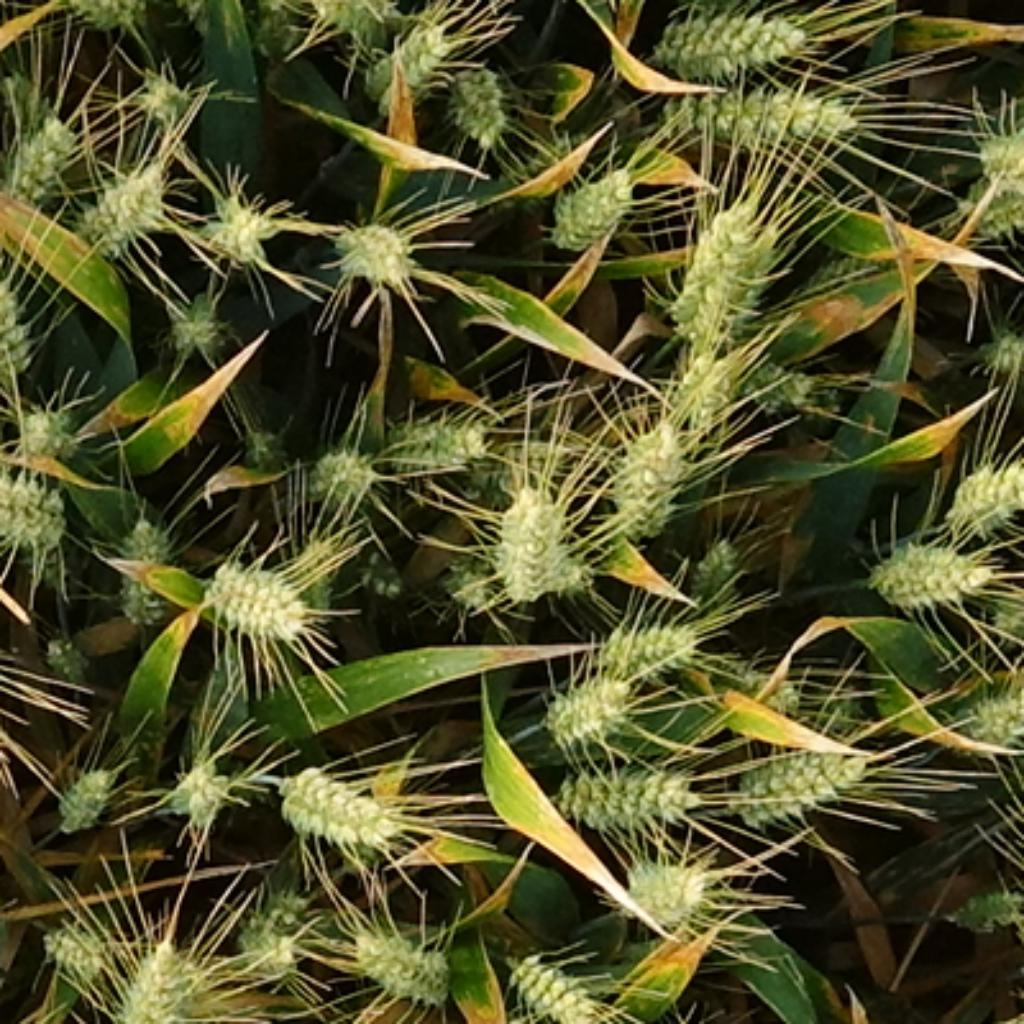0-0: (663, 189, 783, 337), (668, 66, 862, 151), (640, 2, 829, 79), (721, 739, 872, 829), (271, 747, 404, 847), (483, 473, 588, 599), (550, 747, 706, 829), (601, 407, 696, 532), (104, 924, 217, 1024), (197, 545, 317, 637), (860, 522, 990, 606), (345, 908, 458, 998), (540, 151, 640, 245), (220, 878, 309, 977), (76, 151, 171, 243), (0, 89, 79, 197), (504, 939, 604, 1024), (535, 660, 637, 742), (611, 842, 716, 919), (373, 399, 488, 468), (291, 2, 435, 56), (591, 604, 701, 670), (660, 332, 744, 417), (366, 12, 455, 92), (0, 445, 71, 545), (327, 204, 419, 281), (939, 442, 1021, 522), (437, 51, 512, 138), (734, 343, 824, 412), (110, 517, 168, 622), (197, 184, 276, 261), (7, 389, 84, 458), (0, 232, 38, 371), (727, 660, 814, 719), (48, 752, 117, 826), (38, 906, 112, 975), (299, 432, 378, 496), (166, 747, 235, 816), (161, 281, 227, 353), (944, 696, 1024, 755), (678, 527, 744, 596), (133, 56, 199, 122), (947, 184, 1024, 235), (972, 115, 1024, 189), (952, 888, 1024, 934), (40, 622, 99, 678), (445, 550, 499, 611), (232, 414, 291, 468), (56, 2, 163, 30), (972, 327, 1024, 378), (980, 596, 1024, 642), (491, 1008, 583, 1024)
